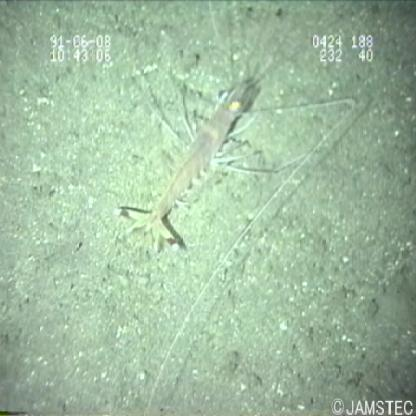Bio: (111, 1, 363, 262)
